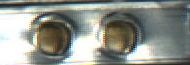joints: (0, 10, 80, 64), (95, 10, 145, 62)
